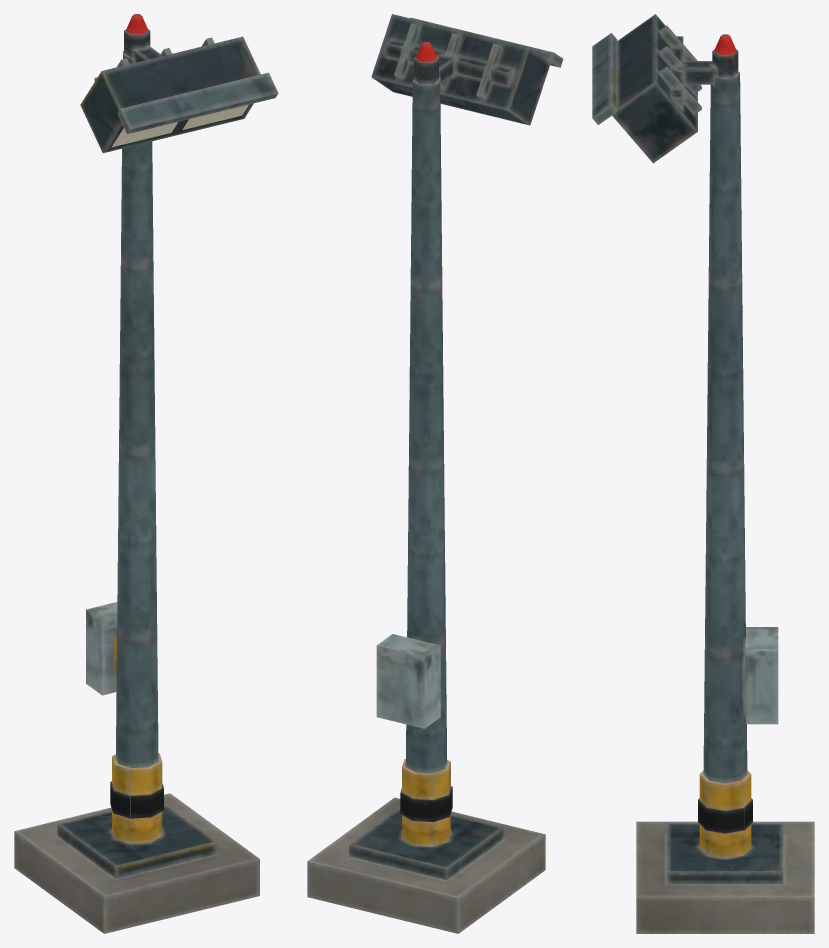
The model's file is lamp_mast.glb.
The picture shows the model from 3 angles, left to right: view 1: azimuth 30°, elevation 25°; view 2: azimuth 150°, elevation 25°; view 3: azimuth 270°, elevation 25°; orthographic projection. The views are drawn at different scales.
Visible parts, largest first — view 1: te_perimeter_lamp_mast; view 2: te_perimeter_lamp_mast; view 3: te_perimeter_lamp_mast.
Part boxes in pixels (x1,y1,x2,y2): te_perimeter_lamp_mast: (14,14,278,933); te_perimeter_lamp_mast: (307,14,563,933); te_perimeter_lamp_mast: (592,14,814,933).
Size of the model in its own units: 0.22 by 1.17 by 0.2742.
Materials: 1 (1 with a texture image).
